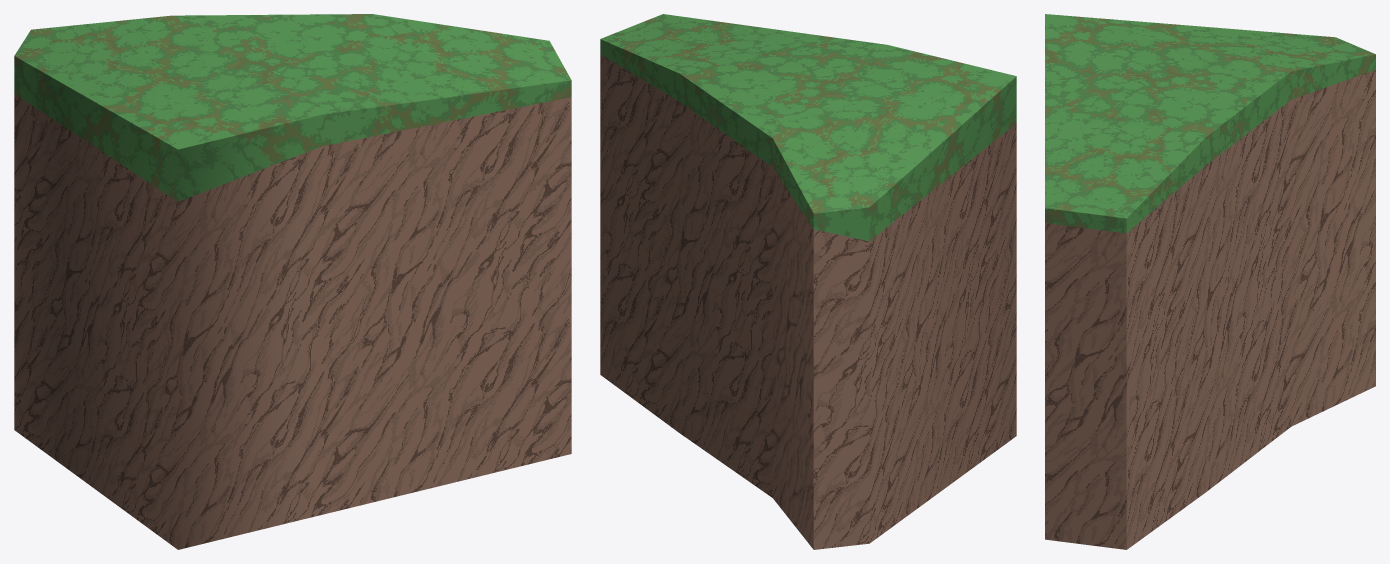
The model's file is Earth_BlockJ.fbx.
3 renders of one model, left to right at view 1: azimuth 30°, elevation 25°; view 2: azimuth 150°, elevation 25°; view 3: azimuth 270°, elevation 25°, orthographic. The views are drawn at different scales.
Parts seen in each view (by area): view 1: Earth_BlockJ; view 2: Earth_BlockJ; view 3: Earth_BlockJ.
Boxes of the visible parts, x1,y1,x2,y2 form: Earth_BlockJ: (14,14,571,549); Earth_BlockJ: (600,14,1016,549); Earth_BlockJ: (1045,14,1375,549).
Size of the model in its own units: 1504 by 1378 by 1163.
Materials: 2 (2 with a texture image).
